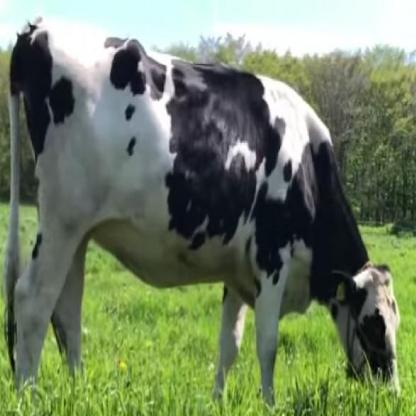cow: (11, 16, 398, 402)
